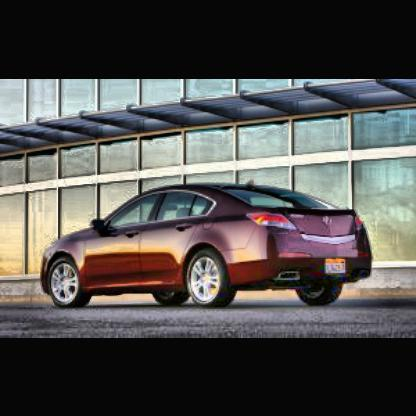Acura TL Sedan 2012: (42, 183, 377, 311)
